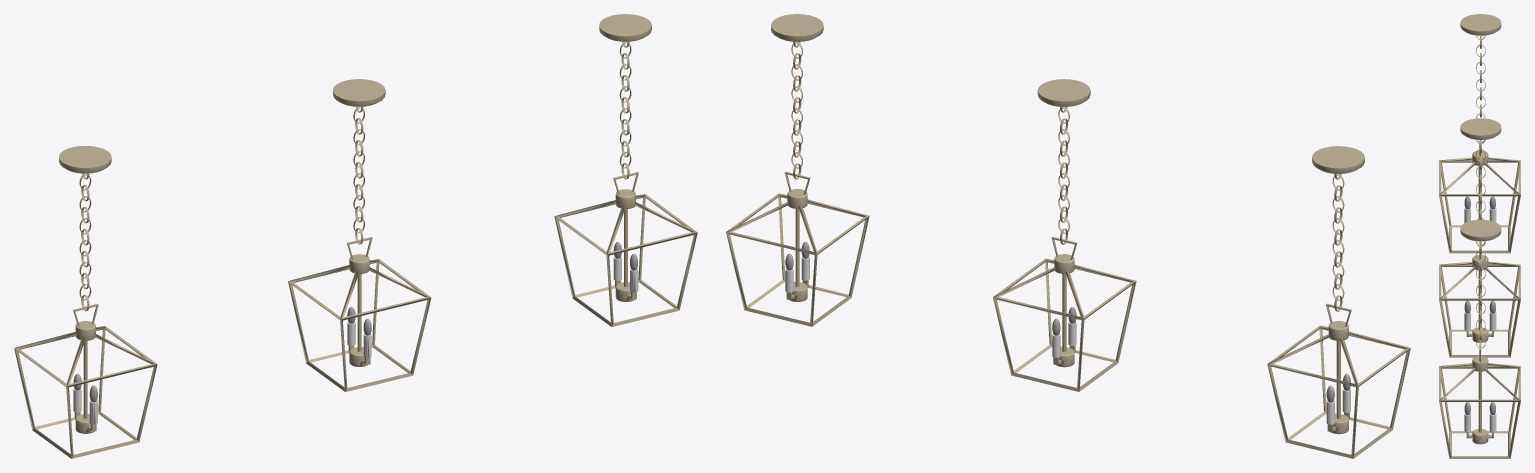
Rendered from 1989_kitchen_Light_DiannaSatinBrass.gltf.
3 views of the same model, side by side, from view 1: azimuth 30°, elevation 25°; view 2: azimuth 150°, elevation 25°; view 3: azimuth 270°, elevation 25° (orthographic). The views are drawn at different scales.
Visible parts, largest first — view 1: Dianna Satin Brass; view 2: Dianna Satin Brass; view 3: Dianna Satin Brass.
Part boxes in pixels (x1,y1,x2,y2): Dianna Satin Brass: (14,14,697,458); Dianna Satin Brass: (726,14,1410,458); Dianna Satin Brass: (1439,14,1520,458).
Bounding box in the file's own units: 2.62 × 1.11 × 0.3781.
